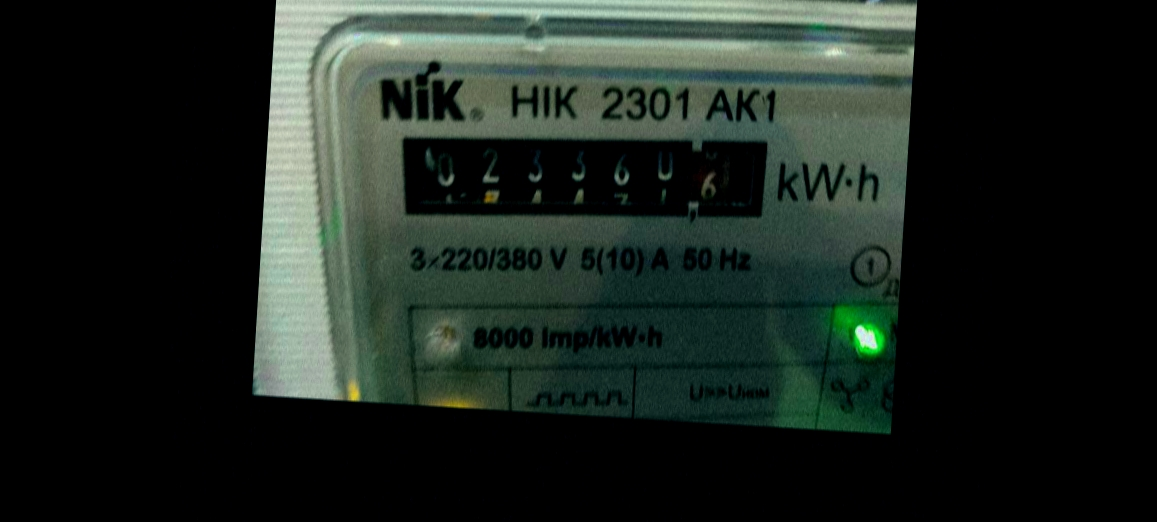0: (431, 145, 459, 189), (652, 144, 677, 182)
2: (475, 142, 504, 184)
3: (522, 143, 546, 184), (565, 143, 589, 183)
6: (606, 146, 635, 189), (698, 166, 721, 203)
screen: (375, 103, 782, 245)
